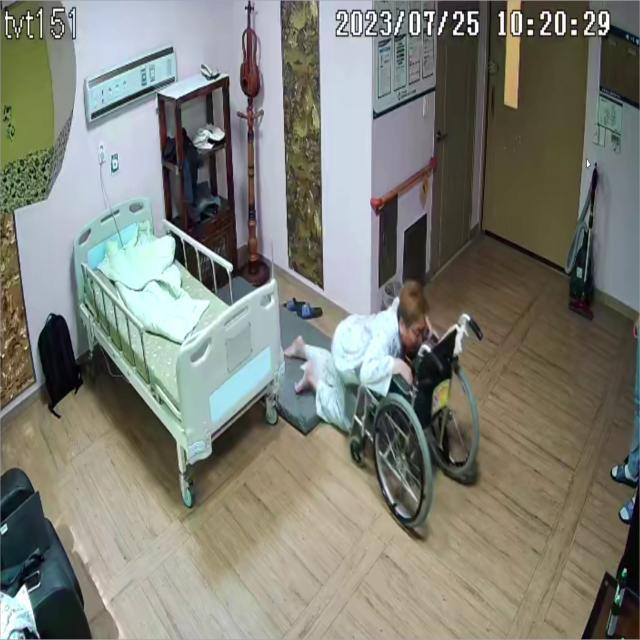fall: (286, 282, 430, 432)
patient: (286, 282, 430, 434)
